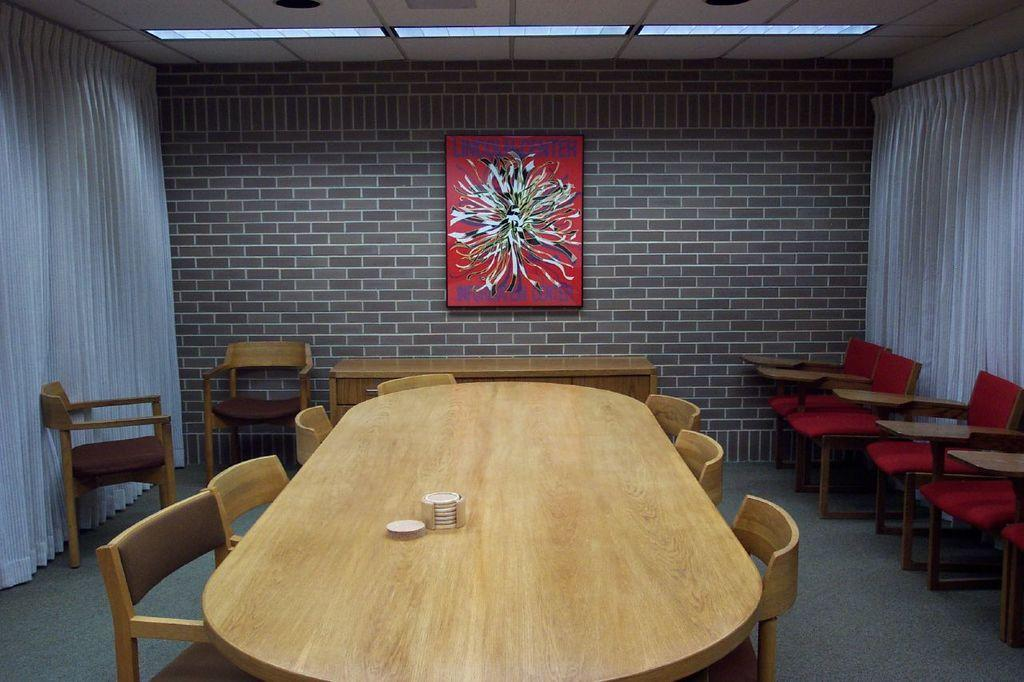Chair: (835, 369, 1023, 574), (93, 463, 233, 682), (757, 351, 927, 521), (873, 420, 1023, 594), (39, 384, 176, 564), (678, 489, 801, 681), (741, 341, 881, 489), (943, 446, 1023, 657), (202, 341, 314, 473), (206, 454, 291, 554), (675, 430, 726, 511), (645, 393, 699, 449), (295, 404, 336, 463), (378, 369, 454, 398)
